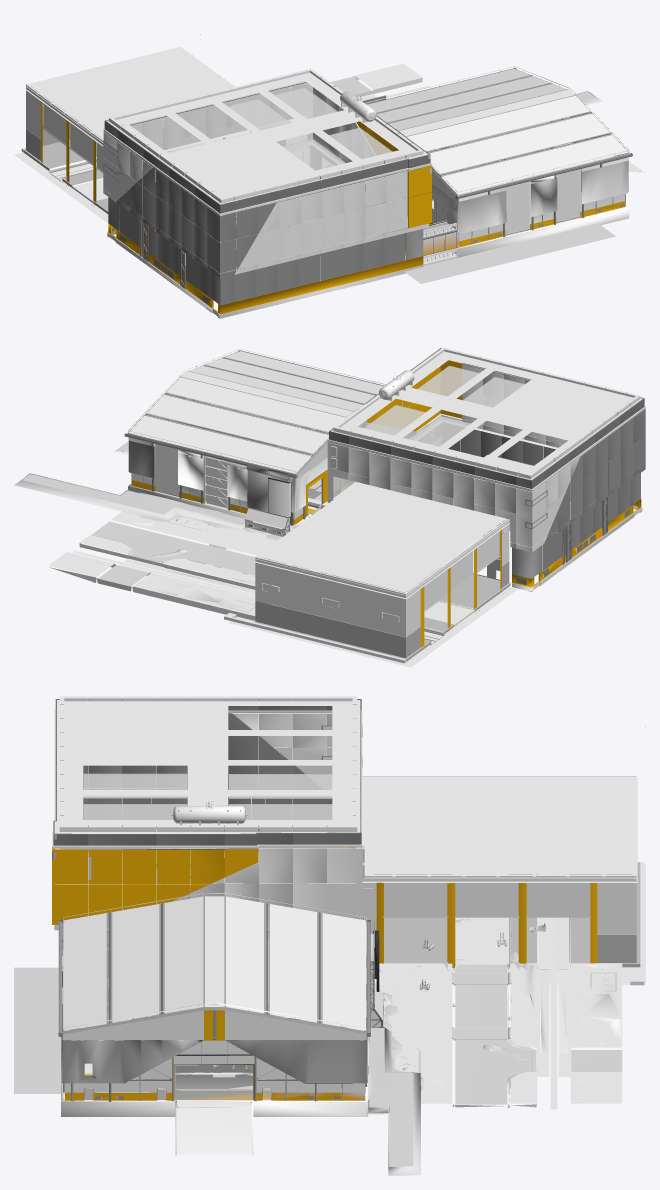
The model's file is cell_86_58.fbx.
The picture shows the model from 3 angles, top to bottom: view 1: azimuth 30°, elevation 25°; view 2: azimuth 150°, elevation 25°; view 3: azimuth 270°, elevation 25°; orthographic projection. The views are drawn at different scales.
Visible parts, largest first — view 1: SM_H_Building_FutureTech_AssemblyArea_ExterWall_01D.mo, SM_H_Building_FutureTech_PrintArea_ExterWall_01E.mo, SM_H_Building_FutureTech_TransferStation_InterWall_01.mo, SM_I_RoadFacility_Ground_B_05.mo, SM_H_Building_FutureTech_PrintArea_ExterWall_02D.mo, SM_I_RoadFacility_Ground_B_08.mo, SM_I_RoadFacility_Ground_B_07.mo, SM_H_Building_FutureTech_AssemblyArea_InterWall_01K.mo.002, SM_H_Building_FutureTech_AssemblyArea_InterWall_01K.mo.003, SM_H_Building_FutureTech_AssemblyArea_InterWall_01K.mo.004, SM_H_Building_FutureTech_AssemblyArea_InterWall_01K.mo.005, SM_H_Industrial_Mechanical_MetalSilo_02.mo (+1 smaller); view 2: SM_H_Building_FutureTech_AssemblyArea_ExterWall_01D.mo, SM_H_Building_FutureTech_TransferStation_InterWall_01.mo, SM_H_Building_FutureTech_PrintArea_ExterWall_01E.mo, SM_I_RoadFacility_Ground_B_08.mo, SM_I_RoadFacility_Ground_B_07.mo, SM_I_RoadFacility_Ground_BFlowerBed_01.mo, SM_H_Building_FutureTech_AssemblyArea_InterWall_01K.mo.004, SM_H_Building_FutureTech_AssemblyArea_InterWall_01K.mo.003, SM_H_Building_FutureTech_AssemblyArea_InterWall_01K.mo.005, SM_H_Building_FutureTech_AssemblyArea_InterWall_01K.mo.002, SM_H_Building_FutureTech_PrintArea_InterWall_06.mo, SM_H_Building_FutureTech_PrintArea_ExterWall_02D.mo (+3 smaller); view 3: SM_H_Building_FutureTech_AssemblyArea_ExterWall_01D.mo, SM_H_Building_FutureTech_PrintArea_ExterWall_01E.mo, SM_H_Building_FutureTech_TransferStation_InterWall_01.mo, SM_I_RoadFacility_Ground_B_08.mo, SM_I_RoadFacility_Ground_B_07.mo, SM_H_Building_FutureTech_PrintArea_ExterWall_02D.mo, SM_I_RoadFacility_Ground_B_05.mo, SM_I_RoadFacility_Ground_BFlowerBed_01.mo, SM_H_Building_FutureTech_PrintArea_InterWall_06.mo, SM_H_Building_FutureTech_AssemblyArea_InterWall_01K.mo.005, SM_H_Building_FutureTech_AssemblyArea_InterWall_01K.mo.002, SM_H_Building_FutureTech_AssemblyArea_InterWall_01K.mo.004 (+5 smaller).
Part boxes in pixels (x1=…): SM_H_Building_FutureTech_AssemblyArea_ExterWall_01D.mo: x1=103, y1=68, x2=431, y2=318; SM_H_Building_FutureTech_PrintArea_ExterWall_01E.mo: x1=344, y1=66, x2=632, y2=247; SM_H_Building_FutureTech_TransferStation_InterWall_01.mo: x1=14, y1=47, x2=285, y2=223; SM_I_RoadFacility_Ground_B_05.mo: x1=404, y1=223, x2=615, y2=283; SM_H_Building_FutureTech_PrintArea_ExterWall_02D.mo: x1=423, y1=148, x2=645, y2=265; SM_I_RoadFacility_Ground_B_08.mo: x1=219, y1=63, x2=435, y2=166; SM_I_RoadFacility_Ground_B_07.mo: x1=21, y1=133, x2=277, y2=216; SM_H_Building_FutureTech_AssemblyArea_InterWall_01K.mo.002: x1=228, y1=98, x2=291, y2=130; SM_H_Building_FutureTech_AssemblyArea_InterWall_01K.mo.003: x1=274, y1=87, x2=337, y2=118; SM_H_Building_FutureTech_AssemblyArea_InterWall_01K.mo.004: x1=329, y1=127, x2=392, y2=158; SM_H_Building_FutureTech_AssemblyArea_InterWall_01K.mo.005: x1=282, y1=139, x2=345, y2=170; SM_H_Industrial_Mechanical_MetalSilo_02.mo: x1=340, y1=91, x2=376, y2=122; SM_H_Building_FutureTech_AssemblyArea_ExterWall_01D.mo: x1=327, y1=347, x2=645, y2=591; SM_H_Building_FutureTech_TransferStation_InterWall_01.mo: x1=229, y1=482, x2=517, y2=667; SM_H_Building_FutureTech_PrintArea_ExterWall_01E.mo: x1=124, y1=349, x2=402, y2=536; SM_I_RoadFacility_Ground_B_08.mo: x1=48, y1=511, x2=282, y2=620; SM_I_RoadFacility_Ground_B_07.mo: x1=224, y1=567, x2=510, y2=663; SM_I_RoadFacility_Ground_BFlowerBed_01.mo: x1=14, y1=473, x2=291, y2=535; SM_H_Building_FutureTech_AssemblyArea_InterWall_01K.mo.004: x1=417, y1=365, x2=479, y2=396; SM_H_Building_FutureTech_AssemblyArea_InterWall_01K.mo.003: x1=364, y1=405, x2=425, y2=435; SM_H_Building_FutureTech_AssemblyArea_InterWall_01K.mo.005: x1=463, y1=377, x2=524, y2=407; SM_H_Building_FutureTech_AssemblyArea_InterWall_01K.mo.002: x1=409, y1=416, x2=470, y2=446; SM_H_Building_FutureTech_PrintArea_InterWall_06.mo: x1=139, y1=399, x2=440, y2=529; SM_H_Building_FutureTech_PrintArea_ExterWall_02D.mo: x1=112, y1=428, x2=422, y2=530; SM_H_Building_FutureTech_AssemblyArea_ExterWall_01D.mo: x1=52, y1=696, x2=362, y2=950; SM_H_Building_FutureTech_PrintArea_ExterWall_01E.mo: x1=58, y1=893, x2=383, y2=1100; SM_H_Building_FutureTech_TransferStation_InterWall_01.mo: x1=355, y1=775, x2=645, y2=984; SM_I_RoadFacility_Ground_B_08.mo: x1=374, y1=963, x2=622, y2=1109; SM_I_RoadFacility_Ground_B_07.mo: x1=374, y1=862, x2=644, y2=985; SM_H_Building_FutureTech_PrintArea_ExterWall_02D.mo: x1=61, y1=1037, x2=368, y2=1155; SM_I_RoadFacility_Ground_B_05.mo: x1=14, y1=967, x2=65, y2=1093; SM_I_RoadFacility_Ground_BFlowerBed_01.mo: x1=368, y1=969, x2=421, y2=1175; SM_H_Building_FutureTech_PrintArea_InterWall_06.mo: x1=64, y1=929, x2=383, y2=1114; SM_H_Building_FutureTech_AssemblyArea_InterWall_01K.mo.005: x1=83, y1=773, x2=187, y2=798; SM_H_Building_FutureTech_AssemblyArea_InterWall_01K.mo.002: x1=229, y1=774, x2=332, y2=798; SM_H_Building_FutureTech_AssemblyArea_InterWall_01K.mo.004: x1=83, y1=804, x2=187, y2=828.
Bounding box in the file's own units: 154 × 39.53 × 125.
